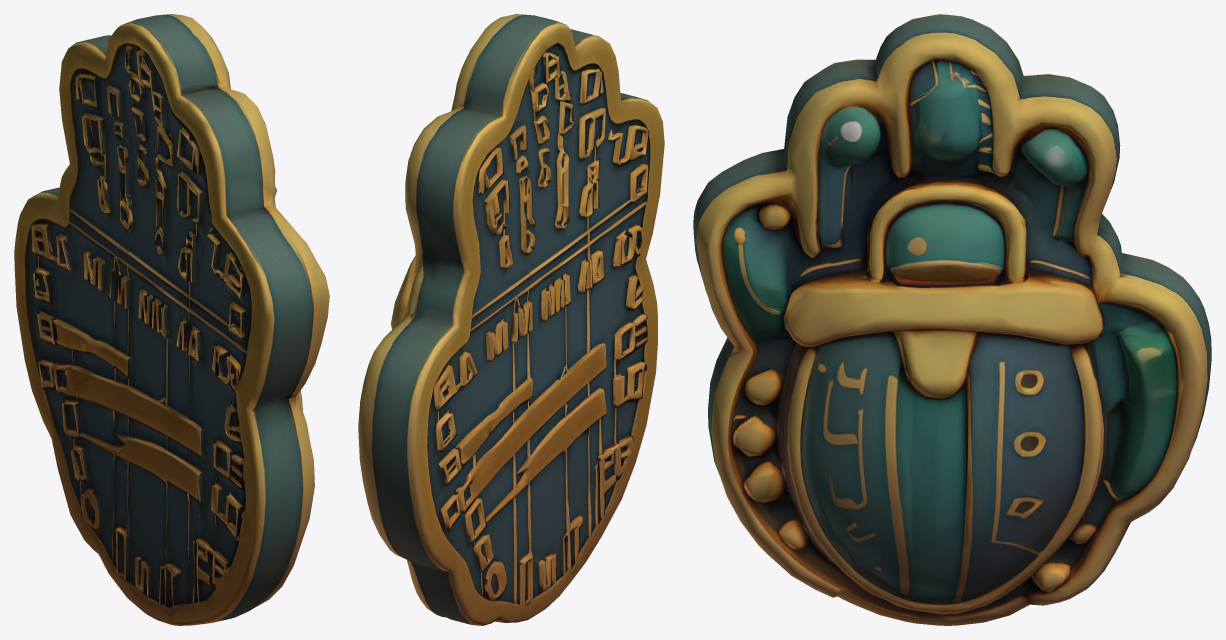
The model's file is golden_scarab.glb.
The picture shows the model from 3 angles, left to right: view 1: azimuth 30°, elevation 25°; view 2: azimuth 150°, elevation 25°; view 3: azimuth 270°, elevation 25°; orthographic projection. The views are drawn at different scales.
Visible parts, largest first — view 1: tripo_node_d09e5164-ef55-452f-a571-252e16c525a7; view 2: tripo_node_d09e5164-ef55-452f-a571-252e16c525a7; view 3: tripo_node_d09e5164-ef55-452f-a571-252e16c525a7.
Boxes of the visible parts, x1,y1,x2,y2 form: tripo_node_d09e5164-ef55-452f-a571-252e16c525a7: (14, 14, 329, 625); tripo_node_d09e5164-ef55-452f-a571-252e16c525a7: (358, 14, 664, 625); tripo_node_d09e5164-ef55-452f-a571-252e16c525a7: (693, 14, 1211, 625).
Size of the model in its own units: 0.2359 by 0.9995 by 0.7883.
Materials: 1 (1 with a texture image).
